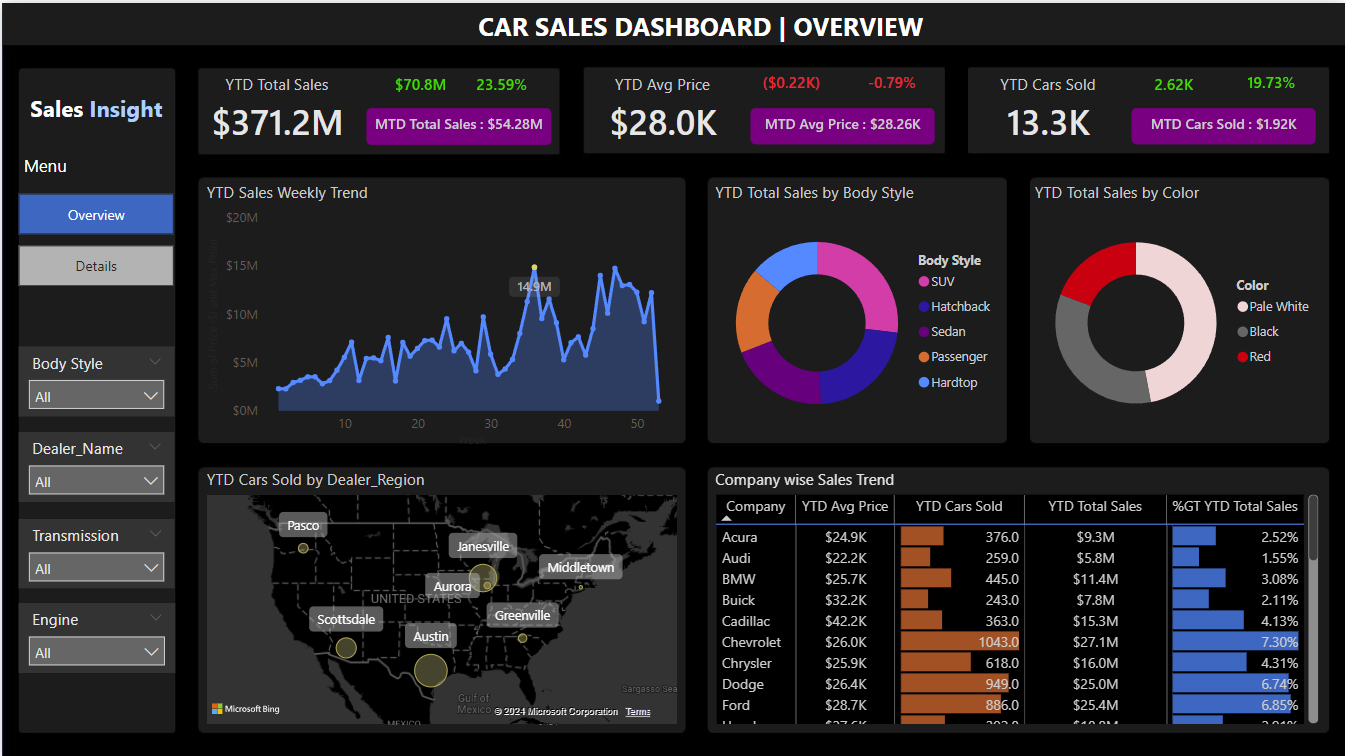

Layout of this report page (visuals, bound fields, positions):
{"tool":"powerbi","page":{"name":"Overview","canvas":[1280,720],"ordinal":0},"visuals":[{"type":"card","title":"YTD Total Sales","fields":{"Values":["car_data.YTD Total Sales"]},"box":[177.2,66.6,169.6,71.2],"z":0},{"type":"card","fields":{"Values":["car_data.Sales Difference"]},"box":[360.5,61.6,77,34.8],"z":1000},{"type":"card","fields":{"Values":["car_data.YoY Sales Growth"]},"box":[437.5,61.6,77,34.8],"z":2000},{"type":"card","fields":{"Values":["car_data.MTD KPI"]},"box":[346.8,99.9,176,35],"z":3000},{"type":"card","title":"YTD Avg Price","fields":{"Values":["car_data.YTD Avg Price"]},"box":[543.6,66.6,169.6,71.2],"z":4000},{"type":"card","fields":{"Values":["car_data.Avg Price Diff"]},"box":[713.2,60.6,77.2,34.8],"z":5000},{"type":"card","fields":{"Values":["car_data.YoY Avg Price Growth"]},"box":[808.6,60.6,77.2,34.8],"z":6000},{"type":"card","fields":{"Values":["car_data.MTD Avg Price RPI"]},"box":[713.2,99.9,175.6,34.8],"z":7000},{"type":"card","title":"YTD Cars Sold","fields":{"Values":["car_data.YTD Cars Sold"]},"box":[911.6,66.6,169.6,71.2],"z":8000},{"type":"card","fields":{"Values":["car_data.Cars Sold Diff"]},"box":[1076.6,62.1,77.2,34.8],"z":9000},{"type":"card","fields":{"Values":["car_data.YoY Car Sold Growth"]},"box":[1170.5,60.6,77.2,34.8],"z":10000},{"type":"card","fields":{"Values":["car_data.MTD Cars Sold KPI"]},"box":[1075.1,99.9,175.6,34.8],"z":11000},{"type":"areaChart","title":"YTD Sales Weekly Trend","fields":{"Category":["Calendar Table.Week"],"Y":["Sum(car_data.Price ($))","car_data.Max Point"]},"box":[190,170,457.1,257.1],"z":12000},{"type":"donutChart","fields":{"Category":["car_data.Body Style"],"Y":["car_data.YTD Total Sales"]},"box":[674.4,170,281.1,248.9],"z":13000},{"type":"donutChart","fields":{"Y":["car_data.YTD Total Sales"],"Category":["car_data.Color"]},"box":[978.8,170,280,248.8],"z":14000},{"type":"map","fields":{"Category":["car_data.Dealer_Region"],"Size":["car_data.YTD Cars Sold"]},"box":[190,442.5,457.5,248.8],"z":15000},{"type":"tableEx","title":"Company wise Sales Trend","fields":{"Values":["car_data.Company","car_data.YTD Avg Price","car_data.YTD Cars Sold","car_data.YTD Total Sales1","car_data.YTD Total Sales"]},"box":[674.3,442.9,584.3,248.6],"z":16000},{"type":"textbox","box":[448.6,0,487.1,42.9],"z":17000},{"type":"slicer","fields":{"Values":["car_data.Body Style"]},"box":[15.1,327.1,148.4,66.6],"z":18000},{"type":"slicer","fields":{"Values":["car_data.Dealer_Name"]},"box":[15.1,408.8,148.4,66.6],"z":19000},{"type":"slicer","fields":{"Values":["car_data.Transmission"]},"box":[15,491.2,148.8,66.2],"z":20000},{"type":"slicer","fields":{"Values":["car_data.Engine"]},"box":[15.5,570.9,149.1,66.4],"z":21000},{"type":"textbox","box":[15,80,148.3,43.3],"z":22000},{"type":"textbox","box":[15,138.3,148.3,43.3],"z":23000},{"type":"pageNavigator","box":[15,181.7,148.3,88.3],"z":24000}]}

Visuals, with their boxes in screenshot pixels (x1, y1, x2, y2), scaled from the page's 1280x720 canvas onto the 1345x756 screenshot:
"YTD Total Sales" card: region(186, 70, 364, 145)
card - car_data.Sales Difference: region(379, 65, 460, 101)
card - car_data.YoY Sales Growth: region(460, 65, 541, 101)
card - car_data.MTD KPI: region(364, 105, 549, 142)
"YTD Avg Price" card: region(571, 70, 749, 145)
card - car_data.Avg Price Diff: region(749, 64, 831, 100)
card - car_data.YoY Avg Price Growth: region(850, 64, 931, 100)
card - car_data.MTD Avg Price RPI: region(749, 105, 934, 141)
"YTD Cars Sold" card: region(958, 70, 1136, 145)
card - car_data.Cars Sold Diff: region(1131, 65, 1212, 102)
card - car_data.YoY Car Sold Growth: region(1230, 64, 1311, 100)
card - car_data.MTD Cars Sold KPI: region(1130, 105, 1314, 141)
"YTD Sales Weekly Trend" areaChart: region(200, 178, 680, 448)
donutChart - car_data.Body Style x car_data.YTD Total Sales: region(709, 178, 1004, 440)
donutChart - car_data.YTD Total Sales x car_data.Color: region(1029, 178, 1323, 440)
map - car_data.Dealer_Region x car_data.YTD Cars Sold: region(200, 465, 680, 726)
"Company wise Sales Trend" tableEx: region(709, 465, 1323, 726)
textbox: region(471, 0, 983, 45)
slicer - car_data.Body Style: region(16, 343, 172, 413)
slicer - car_data.Dealer_Name: region(16, 429, 172, 499)
slicer - car_data.Transmission: region(16, 516, 172, 585)
slicer - car_data.Engine: region(16, 599, 173, 669)
textbox: region(16, 84, 172, 129)
textbox: region(16, 145, 172, 191)
pageNavigator: region(16, 191, 172, 284)
